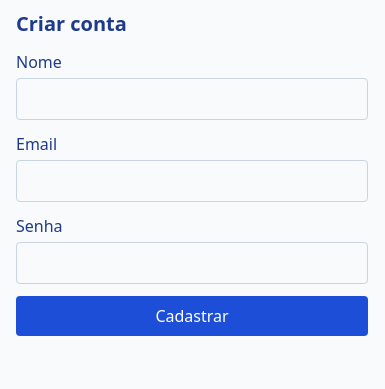
Test: RegisterPage › shows the backend error message when registration fails
The width and height of the screenshot is (385, 389).
Type "Ana" into the field labelled "Nome" at (192, 99), box [16,78,368,120]
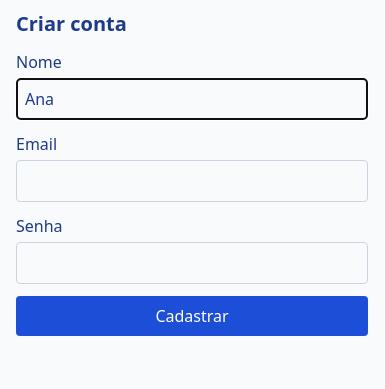
Type "ana@example.com" into the field labelled "Email" at (192, 181), box [16,160,368,202]
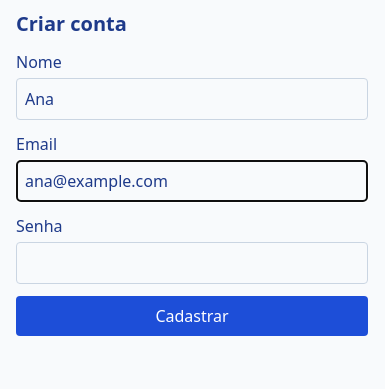
Type "senha1234" into the password field labelled "Senha" at (192, 263), box [16,242,368,284]
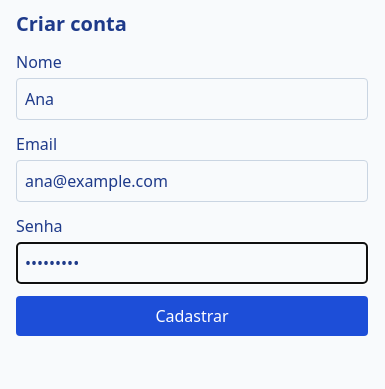
Click the button "Cadastrar" at (192, 316), box [16,296,368,336]
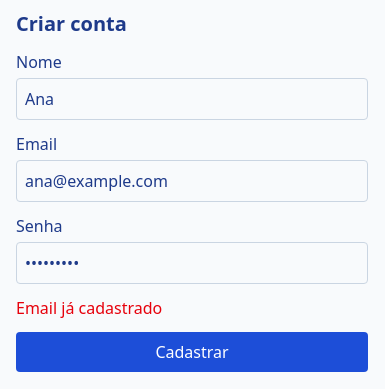
Expected: the text "Email já cadastrado" is shown, [16,297,162,319]
